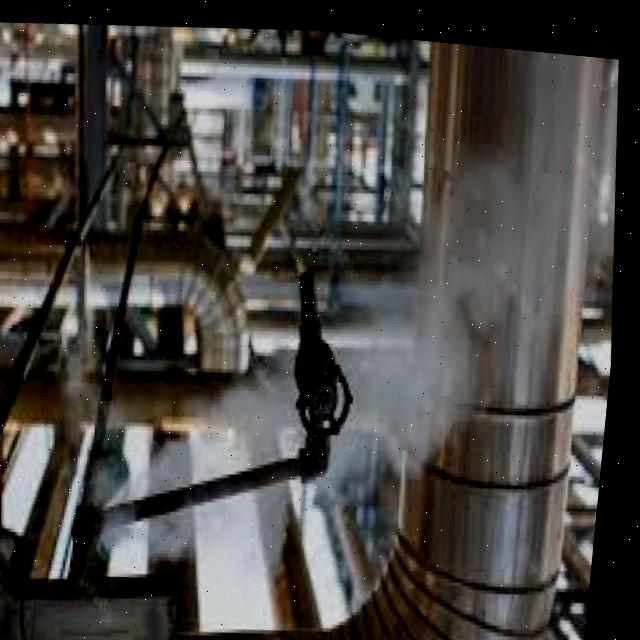corrosion: (83, 439, 258, 590)
